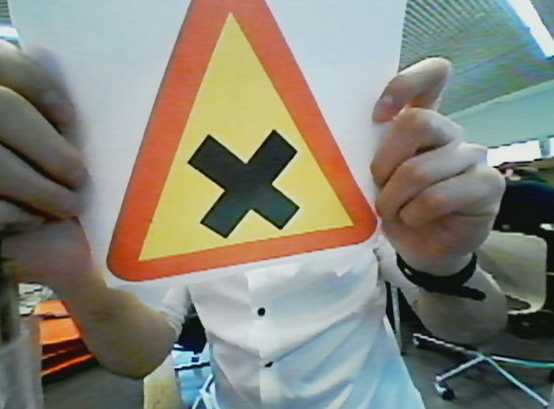junction: (100, 1, 380, 295)
